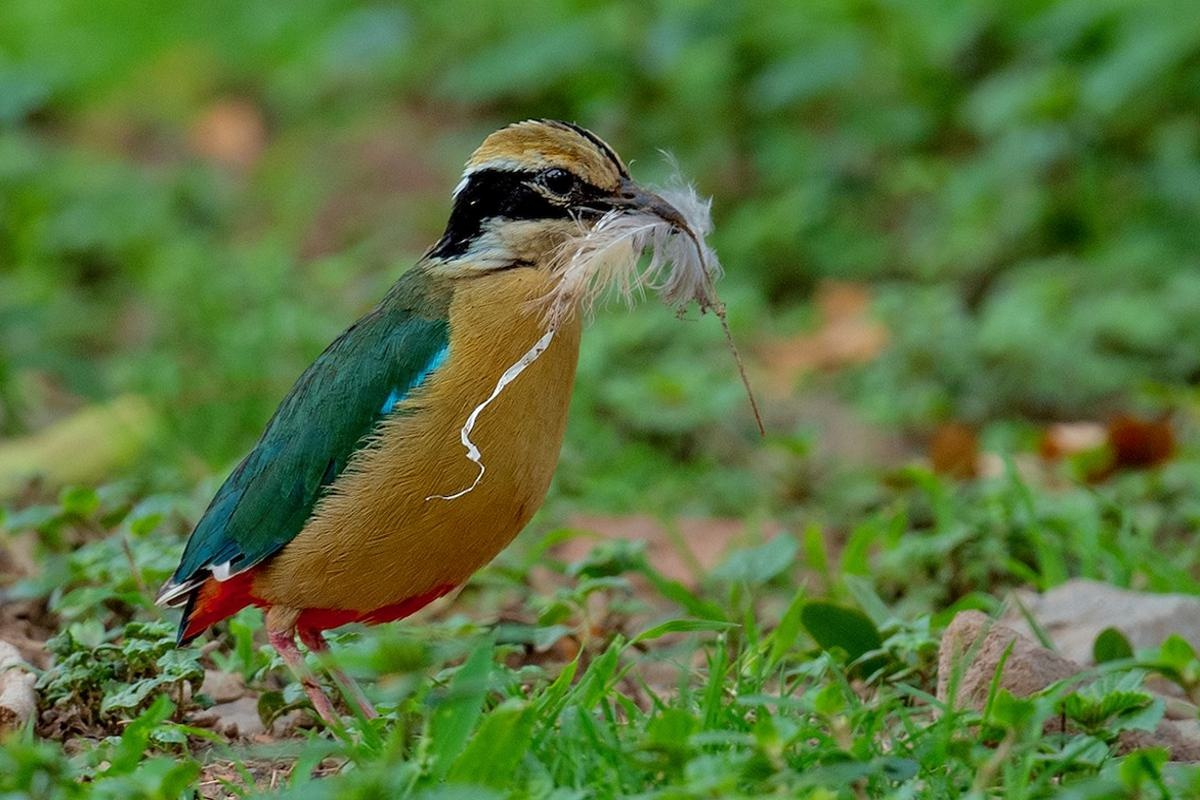pitta: (153, 86, 727, 746)
